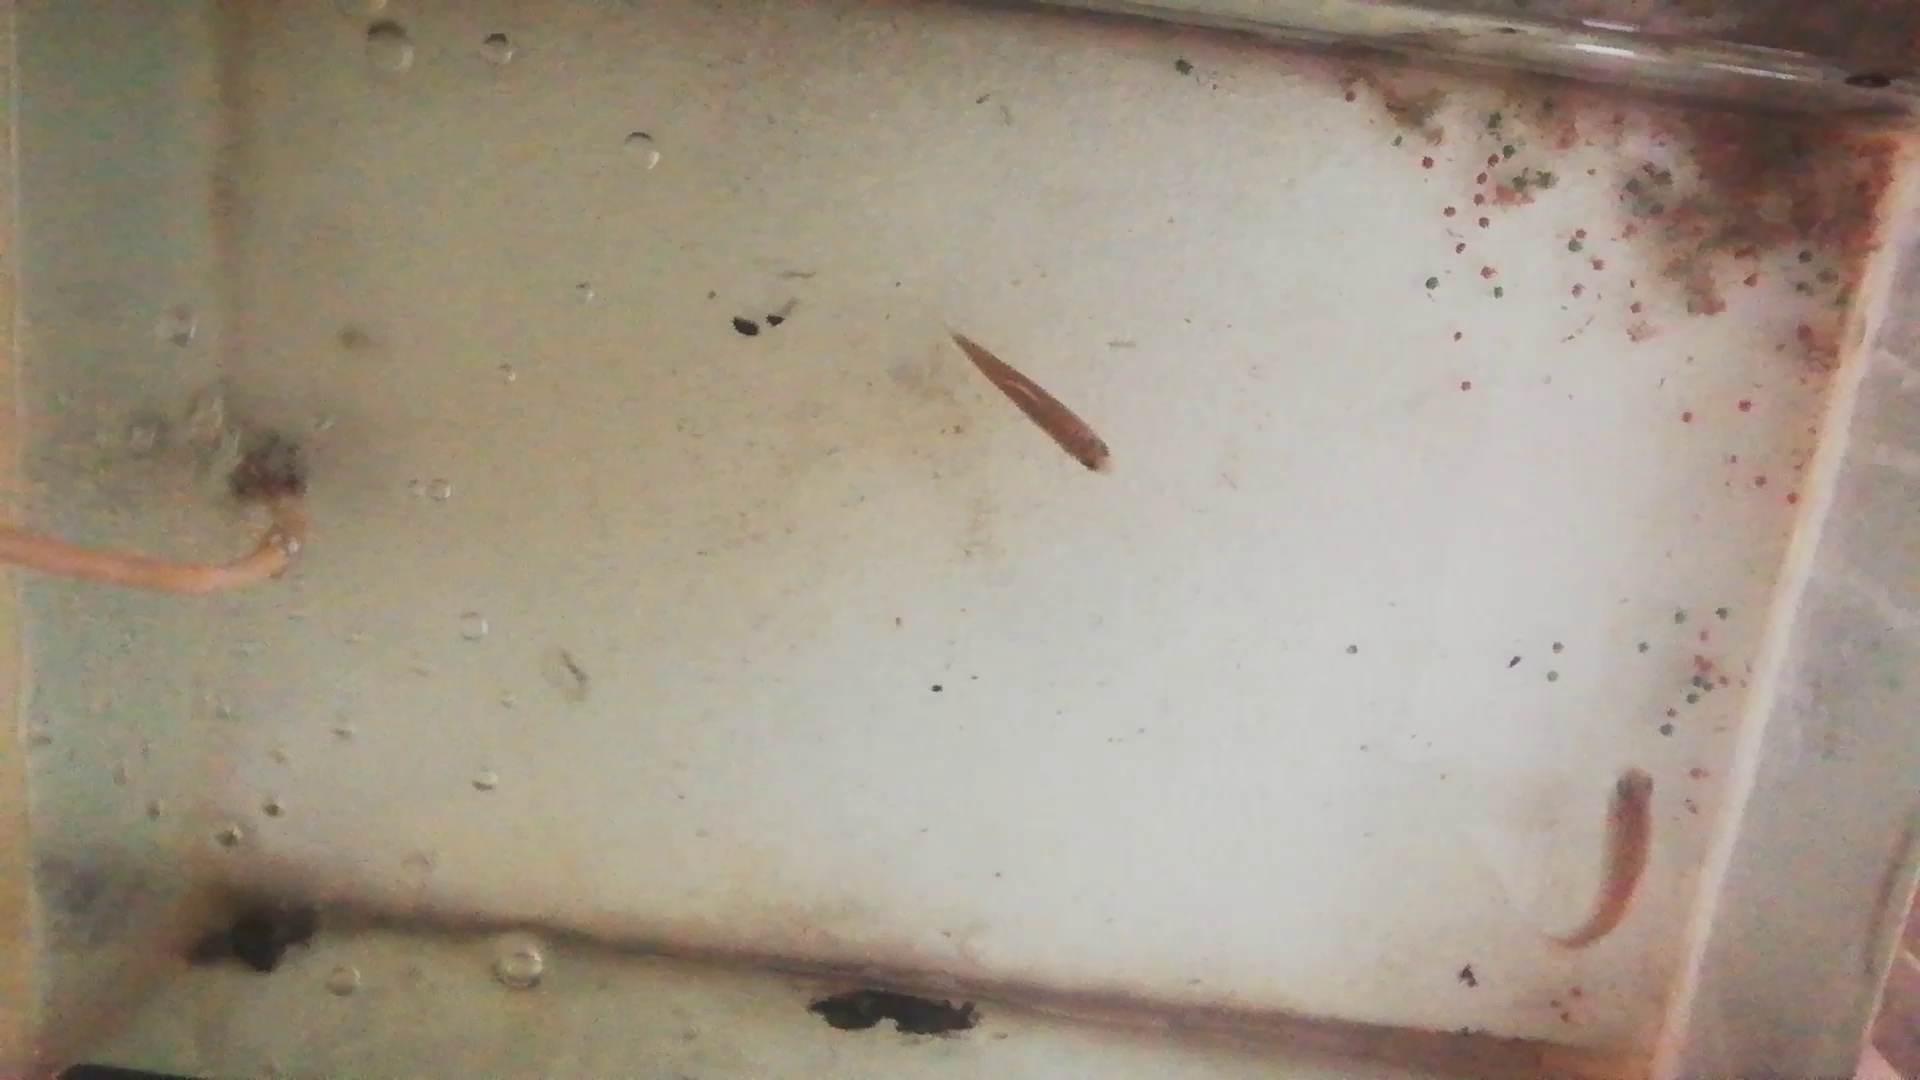fish: (949, 334, 1120, 483), (1563, 771, 1654, 947)
